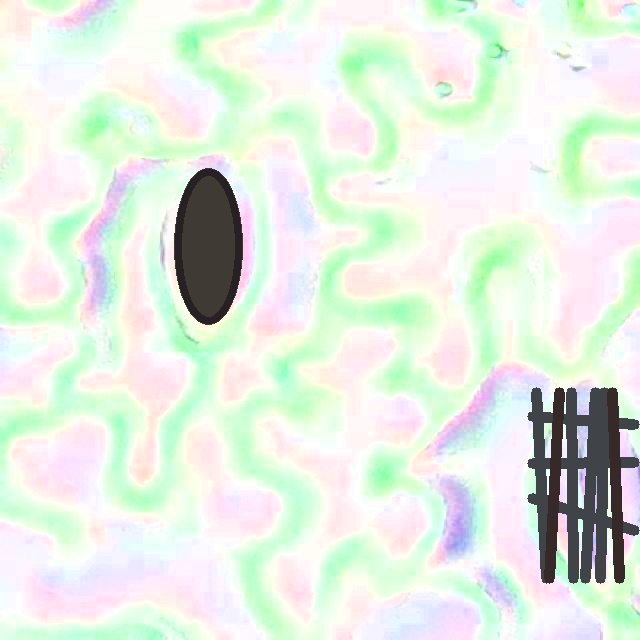open: (528, 387, 638, 582), (174, 168, 241, 323)
